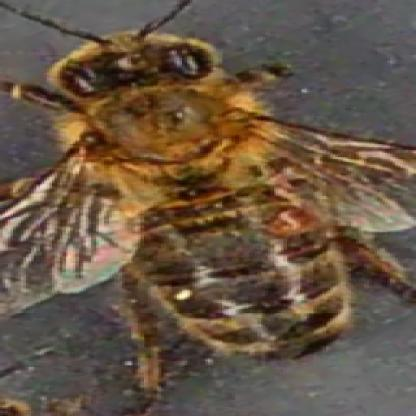bee: (29, 24, 357, 367), (357, 367, 376, 375)
vaoora: (256, 208, 322, 237)
